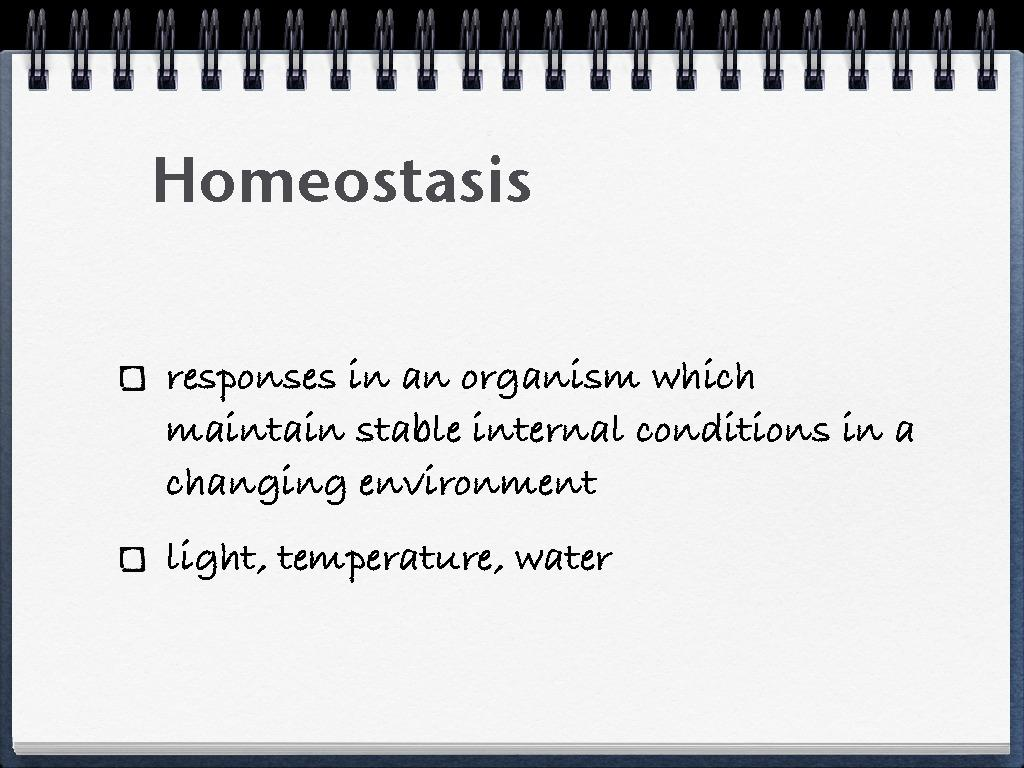paragraph: (105, 328, 938, 633)
title: (144, 142, 540, 220)
